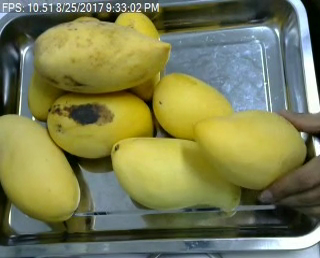Mango: (112, 139, 240, 216), (35, 21, 173, 91), (195, 108, 308, 189), (0, 114, 83, 220), (48, 89, 152, 156), (153, 72, 235, 142), (113, 8, 165, 98), (28, 61, 80, 122)
